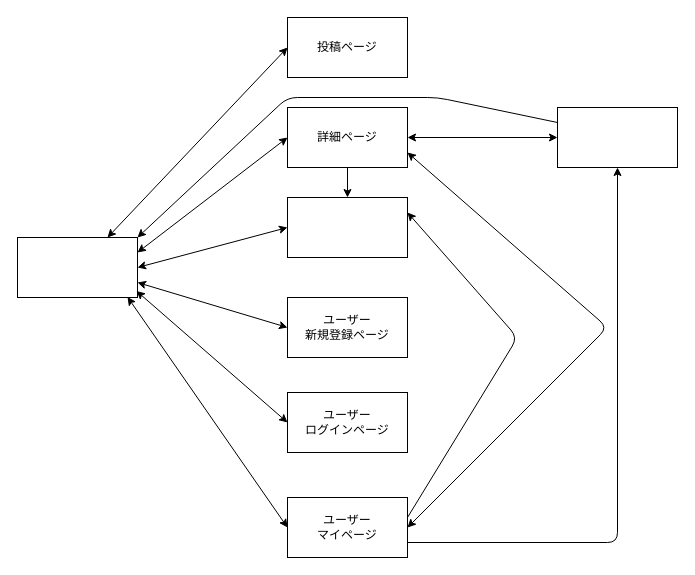
The diagram is 695 pixels wide and 575 high, and some of its shapes have lost their labels. Each missing label, with the centre of its shape:
一覧ページ: the point at 77,267
入金ページ: the point at 347,227
編集ページ: the point at 617,137
